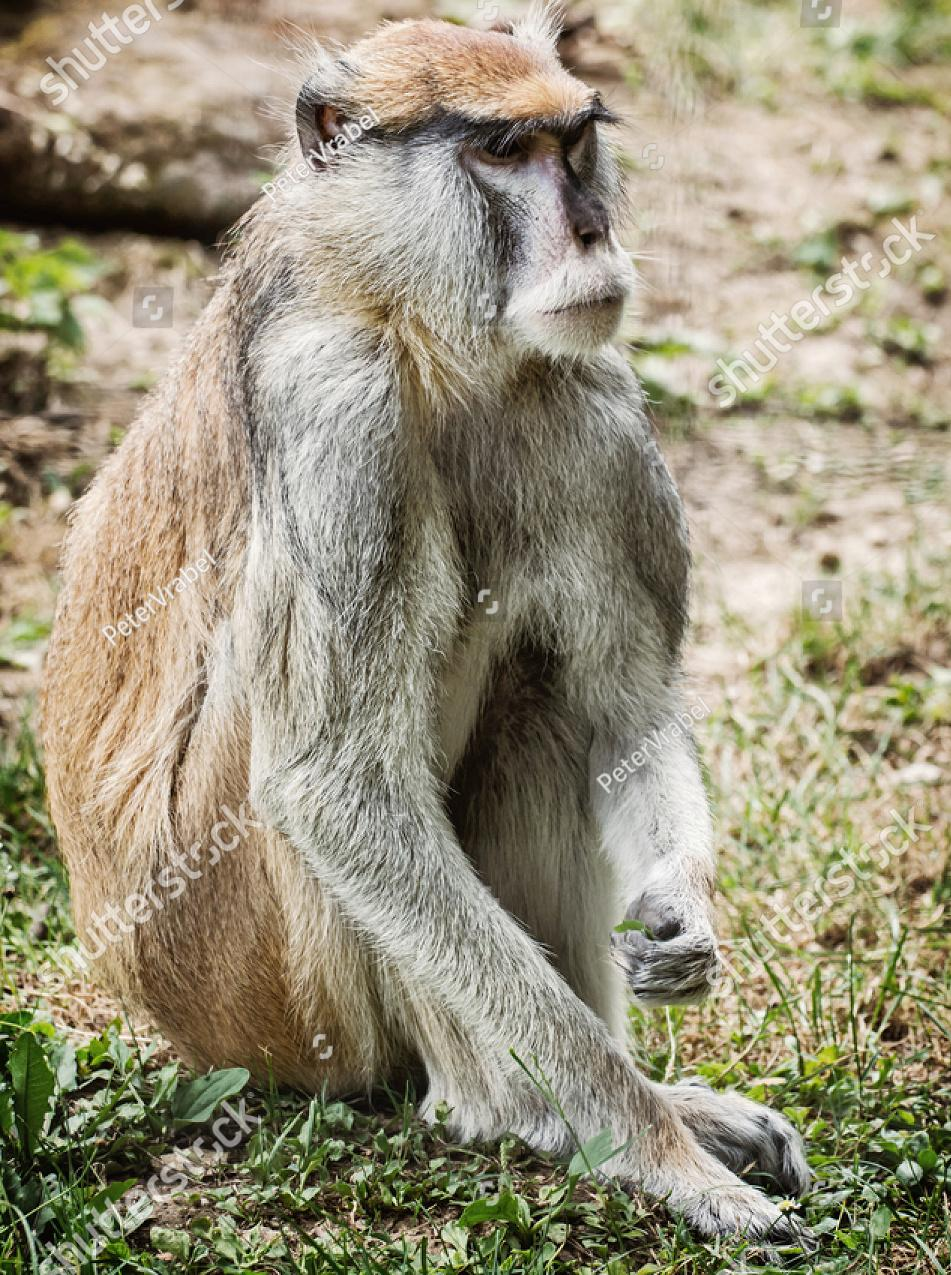monkey: (41, 6, 810, 1236)
